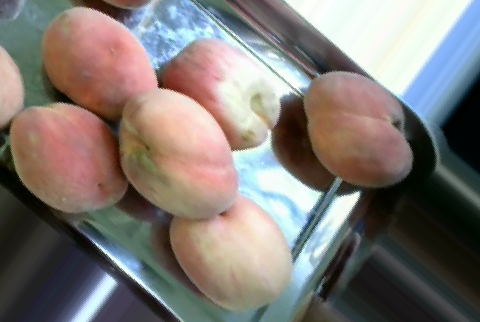Peach: (117, 90, 238, 216), (170, 196, 294, 312), (160, 38, 285, 151), (7, 101, 126, 214), (301, 70, 412, 186), (42, 7, 156, 119), (1, 28, 27, 133)
